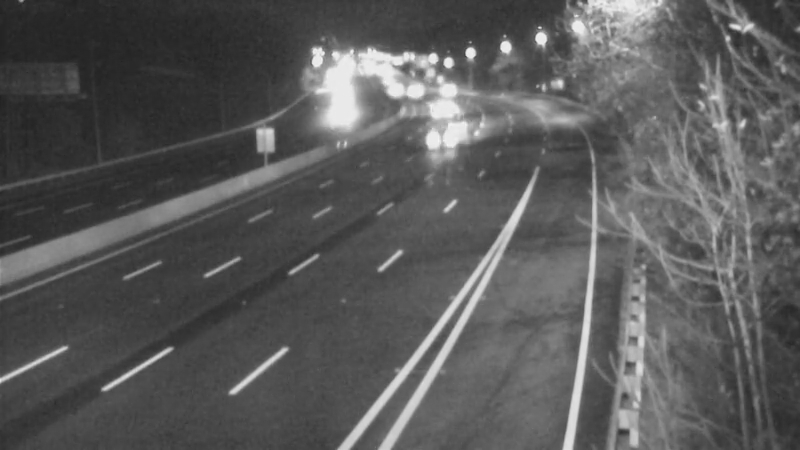vehicle: (411, 64, 461, 114), (367, 62, 417, 112), (383, 60, 433, 110), (410, 84, 460, 134), (436, 98, 486, 148), (411, 116, 461, 166), (316, 81, 366, 131)
